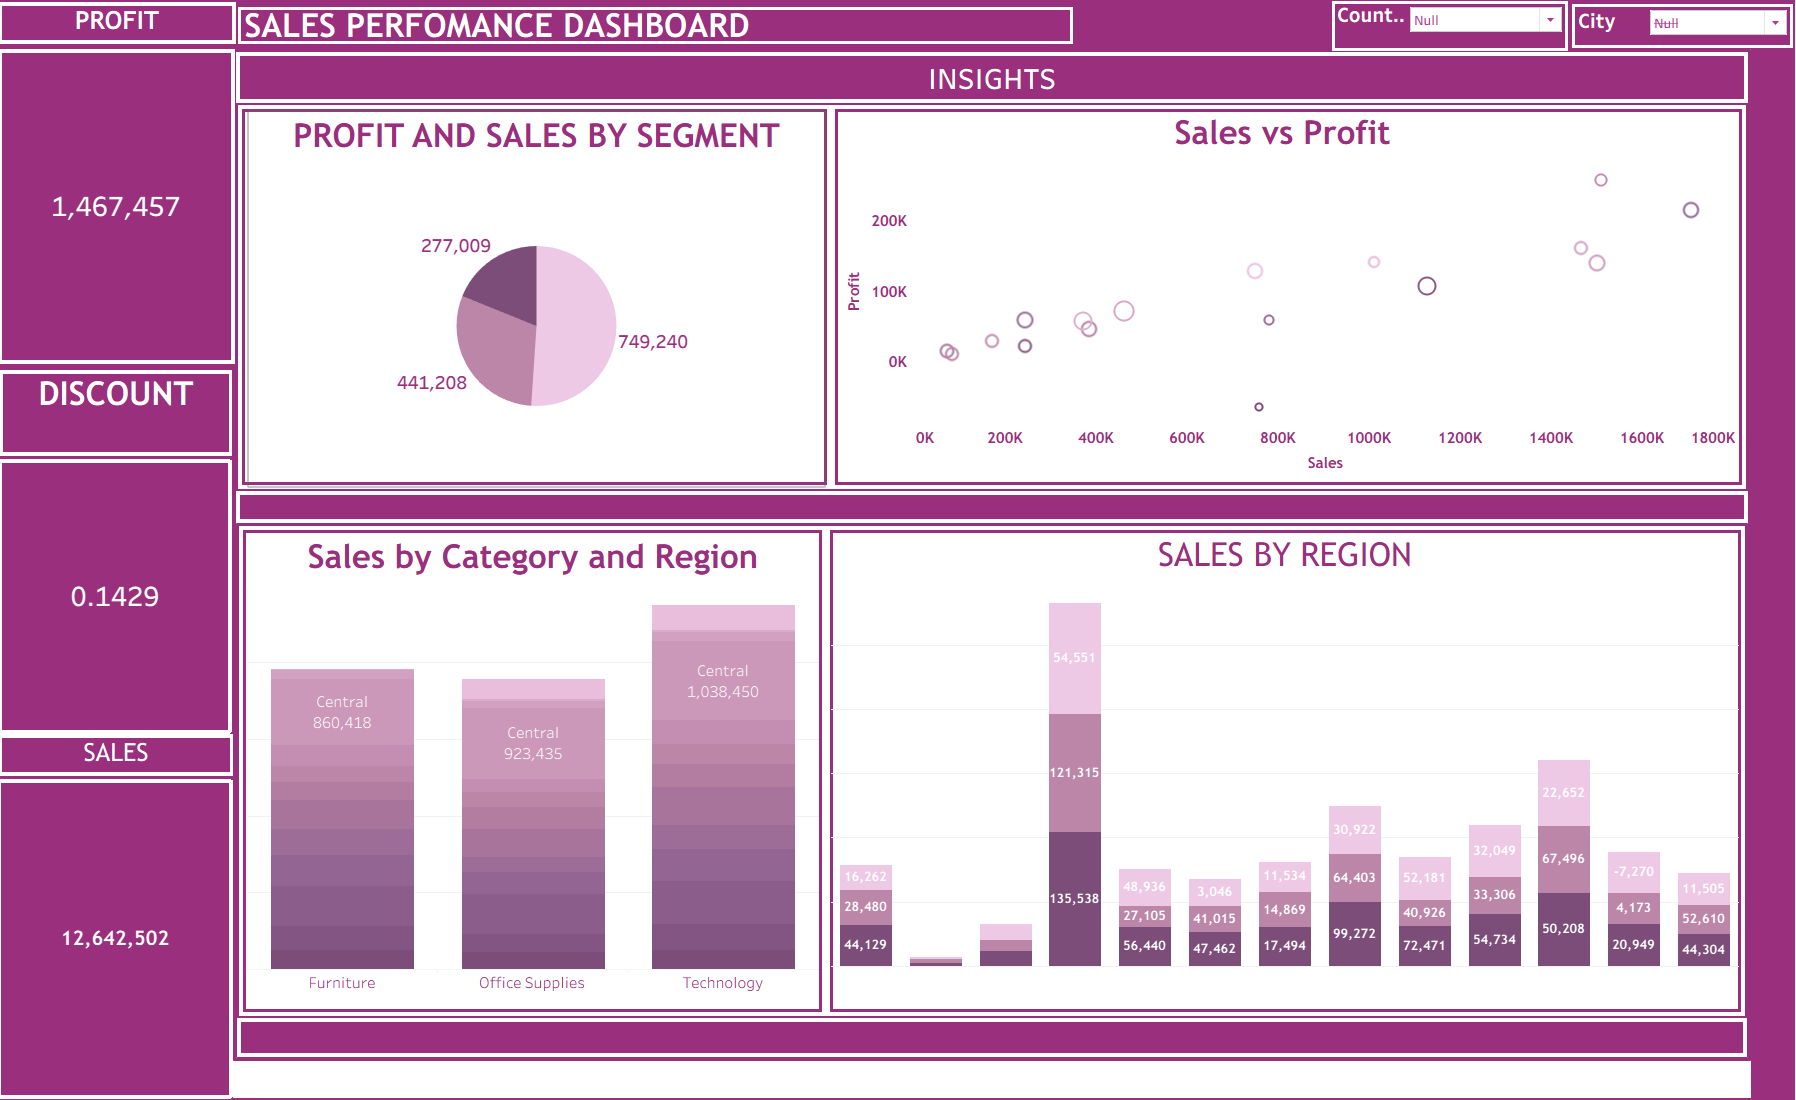

This screenshot's page, from the dashboard's own definition file:
{"tool":"tableau","page":{"name":"dashboard1","canvas":[1800,1100],"ordinal":2},"visuals":[{"type":"filter","title":"COUN FILTER","param":"[federated.18v7ufm07w2dt3134k2en0ou09ch].[none:Country:nk]","box":[1337,1,236,50]},{"type":"worksheet","title":"PROFIT","mark":"Automatic","box":[1,2,240,363]},{"type":"blank","box":[3,3,234,608]},{"type":"text","box":[239,3,843,45]},{"type":"blank","box":[1082,3,673,45]},{"type":"filter","title":"CITY","param":"[federated.18v7ufm07w2dt3134k2en0ou09ch].[none:City:nk]","box":[1577,4,221,44]},{"type":"text","box":[241,52,1512,51]},{"type":"blank","box":[243,105,593,384]},{"type":"blank","box":[836,105,915,384]},{"type":"worksheet","title":"Sales vs Profit ","mark":"Automatic","rows":["Profit"],"cols":["Sales"],"box":[843,109,899,370]},{"type":"worksheet","title":" Profit by Segment","mark":"Pie","box":[254,112,575,374]},{"type":"worksheet","title":"DISCOUNT","mark":"Automatic","box":[3,370,234,364]},{"type":"blank","box":[241,491,1512,32]},{"type":"blank","box":[244,526,587,490]},{"type":"blank","box":[831,526,919,490]},{"type":"worksheet","title":"sales by region","mark":"Automatic","rows":["Sales"],"cols":["Region"],"box":[836,531,908,475]},{"type":"worksheet","title":"Sales by Category and Region","mark":"Automatic","rows":["Sales"],"cols":["Category"],"box":[252,533,572,476]},{"type":"worksheet","title":"CITY","mark":"Automatic","box":[908,587,93,85]},{"type":"worksheet","title":"COUN FILTER","mark":"Automatic","box":[847,590,69,30]},{"type":"blank","box":[3,611,234,486]},{"type":"worksheet","title":"SALES","mark":"Automatic","box":[2,734,236,365]},{"type":"blank","box":[242,1018,1510,39]}]}

Visuals, with their boxes in screenshot pixels (x1, y1, x2, y2), scaled from the page's 1800x1100 canvas onto the 1796x1100 screenshot:
"COUN FILTER" filter: bbox(1334, 1, 1570, 51)
"PROFIT" worksheet: bbox(1, 2, 240, 365)
blank: bbox(3, 3, 236, 611)
text: bbox(238, 3, 1080, 48)
blank: bbox(1080, 3, 1751, 48)
"CITY" filter: bbox(1573, 4, 1794, 48)
text: bbox(240, 52, 1749, 103)
blank: bbox(242, 105, 834, 489)
blank: bbox(834, 105, 1747, 489)
"Sales vs Profit " worksheet: bbox(841, 109, 1738, 479)
" Profit by Segment" worksheet (Pie marks): bbox(253, 112, 827, 486)
"DISCOUNT" worksheet: bbox(3, 370, 236, 734)
blank: bbox(240, 491, 1749, 523)
blank: bbox(243, 526, 829, 1016)
blank: bbox(829, 526, 1746, 1016)
"sales by region" worksheet: bbox(834, 531, 1740, 1006)
"Sales by Category and Region" worksheet: bbox(251, 533, 822, 1009)
"CITY" worksheet: bbox(906, 587, 999, 672)
"COUN FILTER" worksheet: bbox(845, 590, 914, 620)
blank: bbox(3, 611, 236, 1097)
"SALES" worksheet: bbox(2, 734, 237, 1099)
blank: bbox(241, 1018, 1748, 1057)
